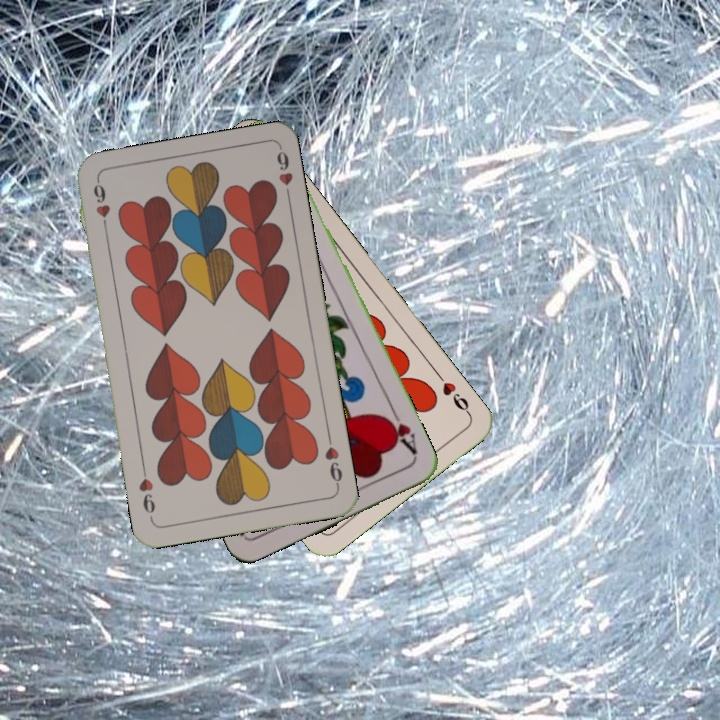H9: (432, 368, 473, 418), (320, 432, 345, 491), (89, 177, 113, 236)
HA: (379, 405, 420, 460)
